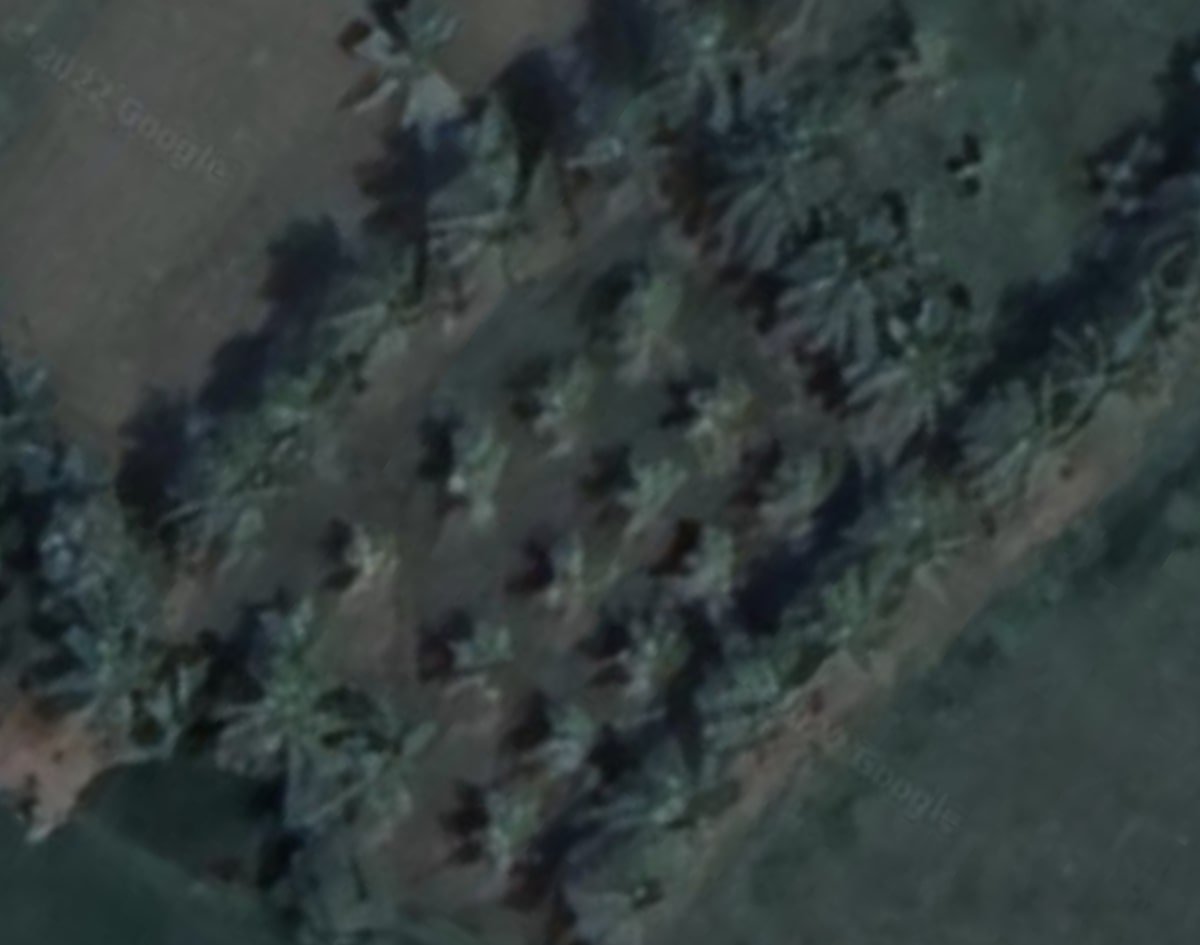coconut: (843, 280, 988, 441), (705, 119, 821, 251), (783, 214, 882, 330), (591, 273, 694, 378), (521, 529, 610, 618), (425, 620, 516, 706)
